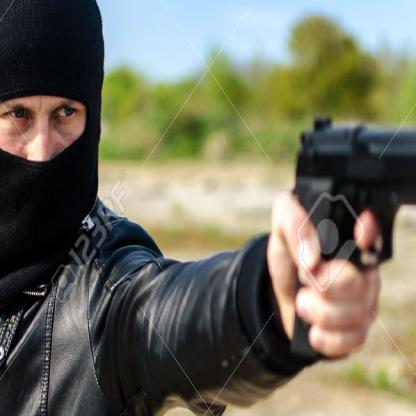gun: (280, 93, 416, 371)
